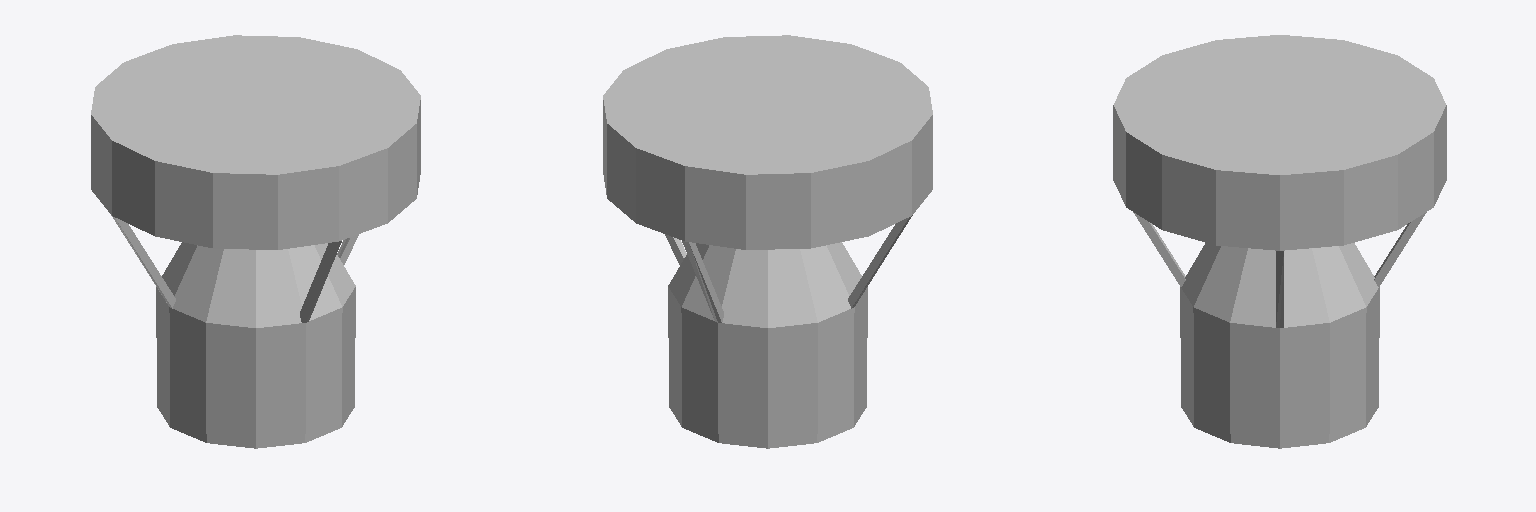
File: basic_engine.obj
3 renders of one model, left to right at view 1: azimuth 30°, elevation 25°; view 2: azimuth 150°, elevation 25°; view 3: azimuth 270°, elevation 25°, orthographic.
Visible parts, largest first — view 1: Sphere_None, Sphere.001_Nozzle, Strut_2_Strut.001, Strut_3_Strut.002; view 2: Sphere_None, Sphere.001_Nozzle, Strut_2_Strut.001, Strut_1_Strut; view 3: Sphere_None, Sphere.001_Nozzle, Strut_3_Strut.002, Strut_1_Strut, Strut_4_Strut.003.
Boxes of the visible parts, box(x1,y1,x2,y2) form: Sphere_None: box(91, 35, 420, 249); Sphere.001_Nozzle: box(156, 242, 355, 448); Strut_2_Strut.001: box(111, 215, 175, 308); Strut_3_Strut.002: box(300, 241, 341, 322); Sphere_None: box(603, 35, 932, 249); Sphere.001_Nozzle: box(668, 242, 867, 448); Strut_2_Strut.001: box(848, 215, 912, 308); Strut_1_Strut: box(682, 241, 723, 322); Sphere_None: box(1113, 35, 1446, 250); Sphere.001_Nozzle: box(1180, 243, 1379, 448); Strut_3_Strut.002: box(1133, 212, 1185, 286); Strut_1_Strut: box(1374, 212, 1426, 286); Strut_4_Strut.003: box(1276, 251, 1283, 327).
Bounding box in the file's own units: 0.9999 × 1 × 0.9999.